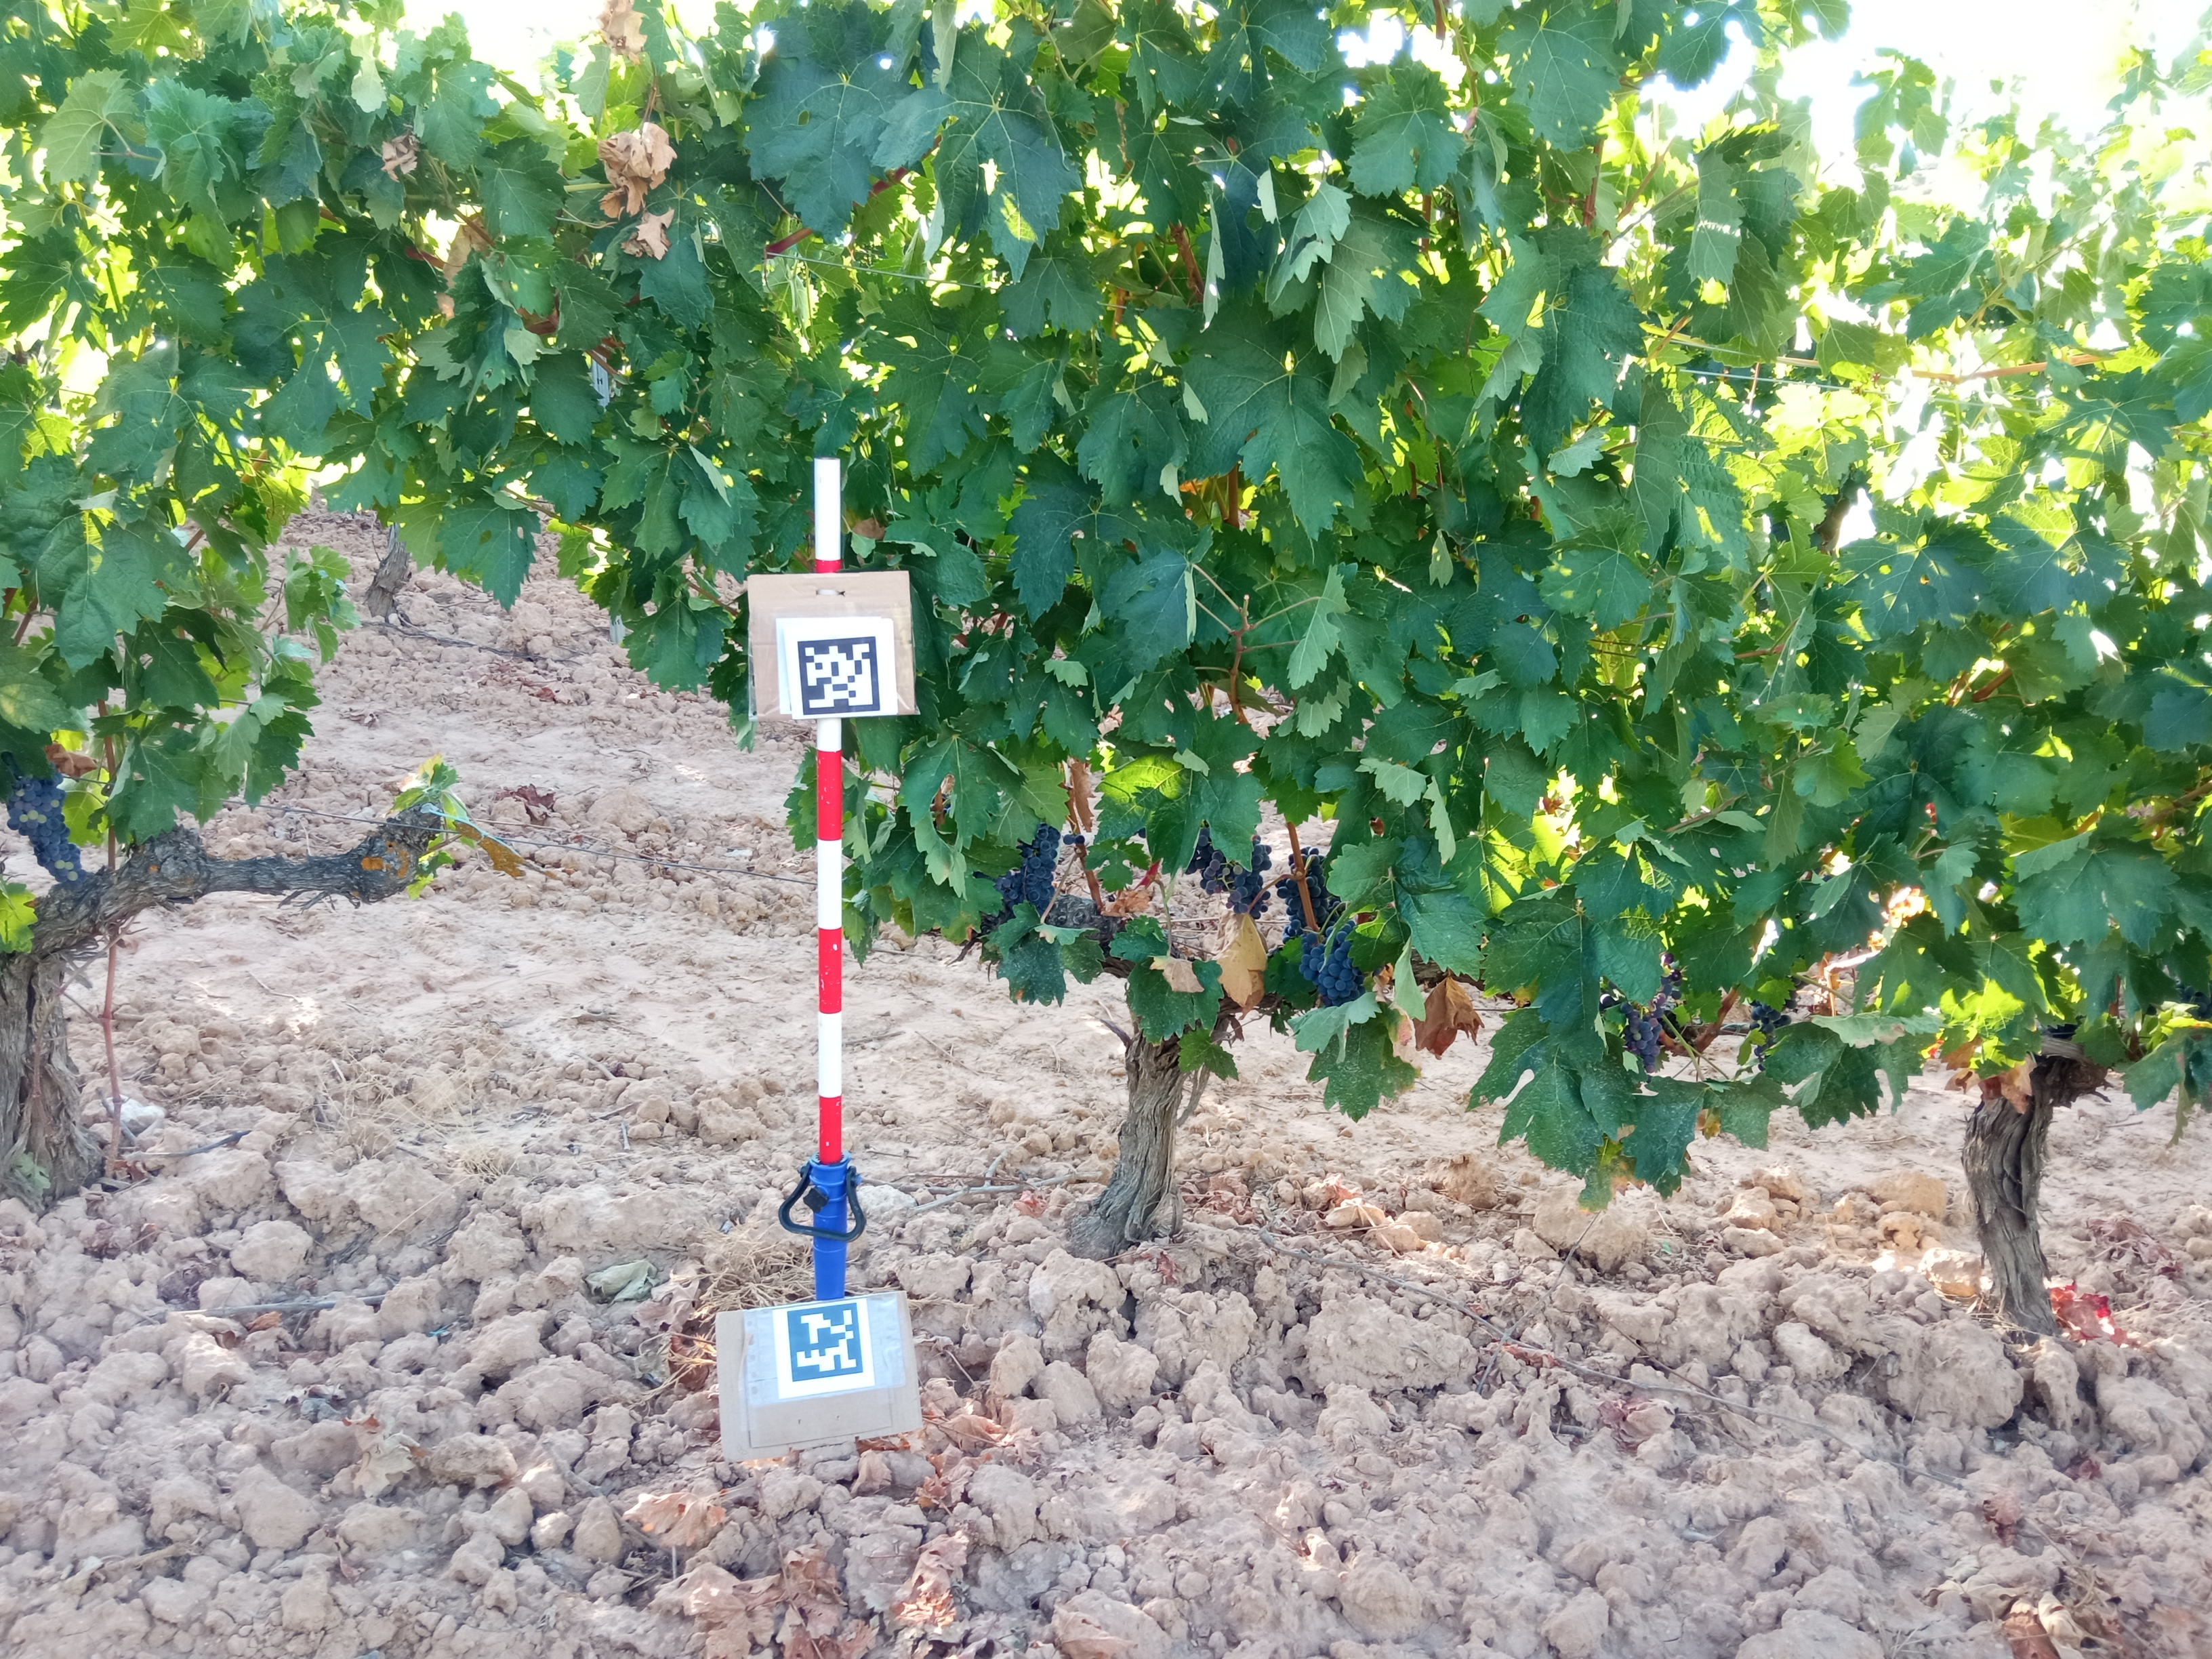grapes: (1599, 953, 1681, 1072), (7, 769, 85, 885), (1183, 824, 1271, 918), (1275, 845, 1334, 943), (1299, 920, 1366, 1007), (1750, 978, 1808, 1070), (1017, 826, 1061, 917), (975, 868, 1024, 911), (2175, 986, 2212, 1019), (2047, 1025, 2074, 1039), (1062, 833, 1085, 845), (2148, 1006, 2156, 1016), (1139, 829, 1146, 838)
